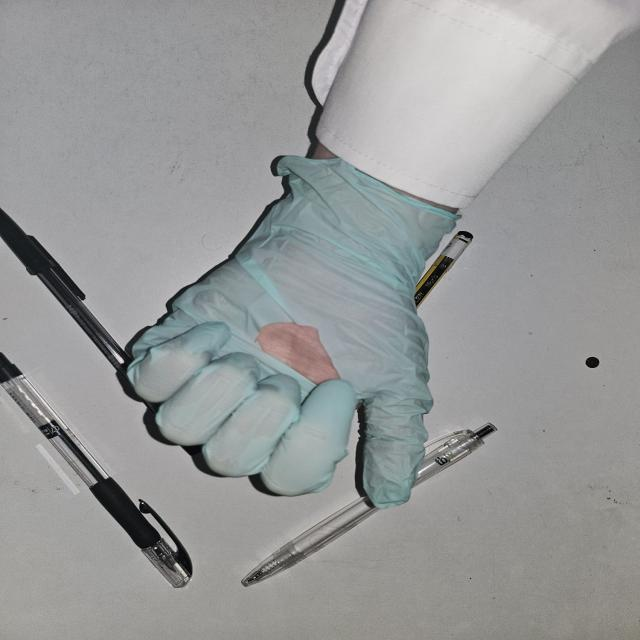gloves_damaged: (116, 151, 458, 508)
